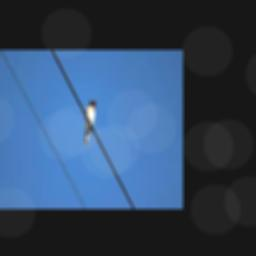Swallow: (83, 99, 96, 148)
